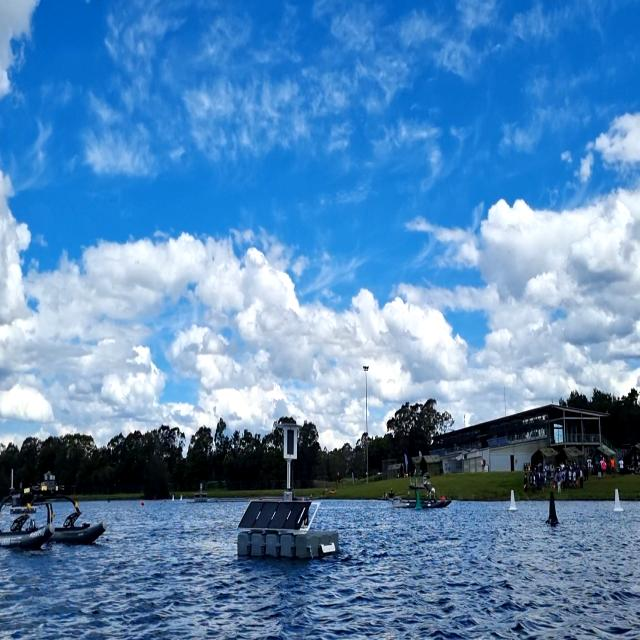led: (285, 427, 296, 458)
